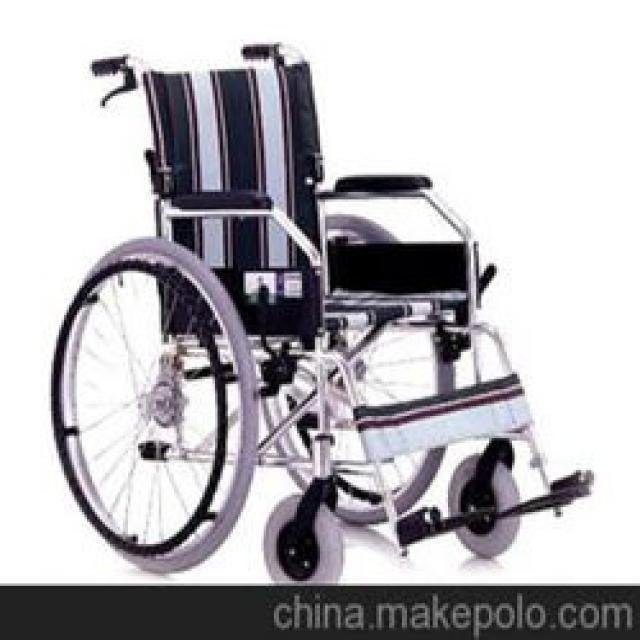wheelchairs: (59, 38, 586, 584)
